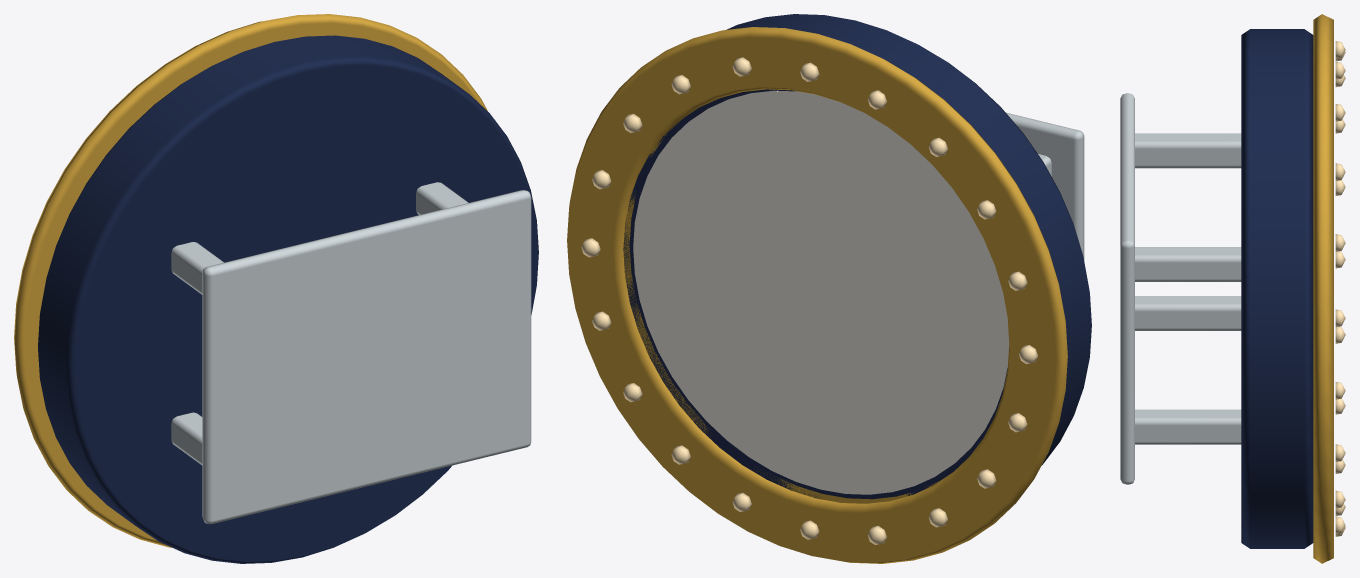
File: RedeMedallion.fbx
The picture shows the model from 3 angles, left to right: view 1: azimuth 30°, elevation 25°; view 2: azimuth 150°, elevation 25°; view 3: azimuth 270°, elevation 25°; orthographic projection. The views are drawn at different scales.
Parts seen in each view (by area): view 1: RedeMedallion_Body.003; view 2: RedeMedallion_Body.003; view 3: RedeMedallion_Body.003.
Boxes of the visible parts, left/top/right/bottom form: RedeMedallion_Body.003: left=14, top=14, right=538, bottom=563; RedeMedallion_Body.003: left=567, top=14, right=1091, bottom=563; RedeMedallion_Body.003: left=1120, top=14, right=1345, bottom=563.
Bounding box in the file's own units: 1.84 × 1.84 × 0.754.
